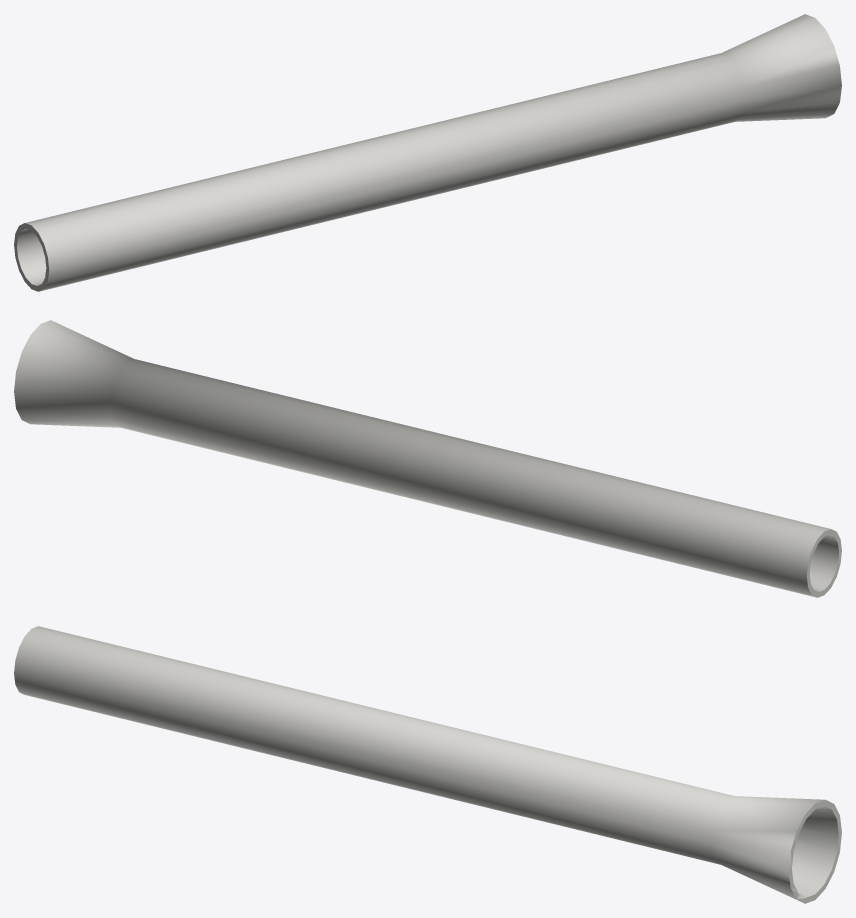
Rendered from tool_Pipe_bender_spring_1.2.glb.
3 views of the same model, one above another, from view 1: azimuth 30°, elevation 25°; view 2: azimuth 150°, elevation 25°; view 3: azimuth 330°, elevation 25° (orthographic).
Parts seen in each view (by area): view 1: tool_Pipe_bender_spring_1.2; view 2: tool_Pipe_bender_spring_1.2; view 3: tool_Pipe_bender_spring_1.2.
Boxes of the visible parts, box(x1,y1,x2,y2) form: tool_Pipe_bender_spring_1.2: box(14, 14, 841, 291); tool_Pipe_bender_spring_1.2: box(14, 320, 841, 597); tool_Pipe_bender_spring_1.2: box(14, 626, 841, 903).
Bounding box in the file's own units: 0.1852 × 0.0218 × 0.0218.
Materials: 1 (1 with a texture image).
